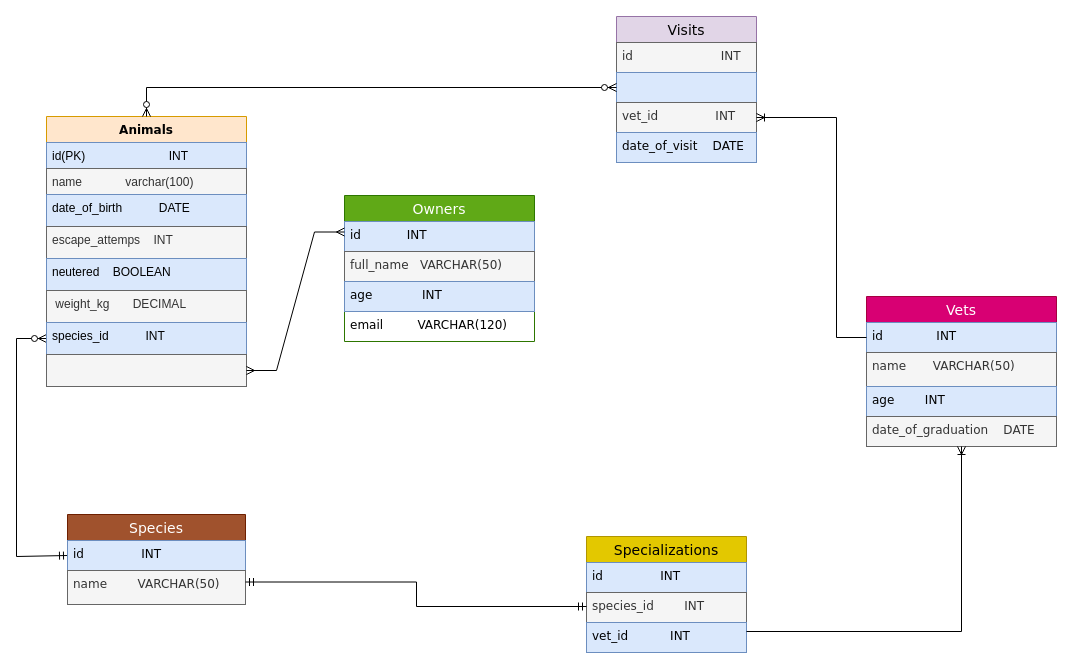
The diagram is 1073 pixels wide and 669 high, and some of its shapes have lost their labels. The shapes that lost their labels are listed below. From the top down, each one's centre as x and y in pixels, then its label:
At (x=686, y=87): "animal_id INT".
At (x=146, y=370): "owner_id INT".
